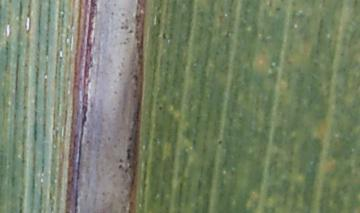tarspot: (126, 147, 132, 160), (162, 31, 168, 41), (216, 139, 224, 146), (158, 105, 164, 112), (127, 135, 133, 142), (117, 163, 123, 169)
